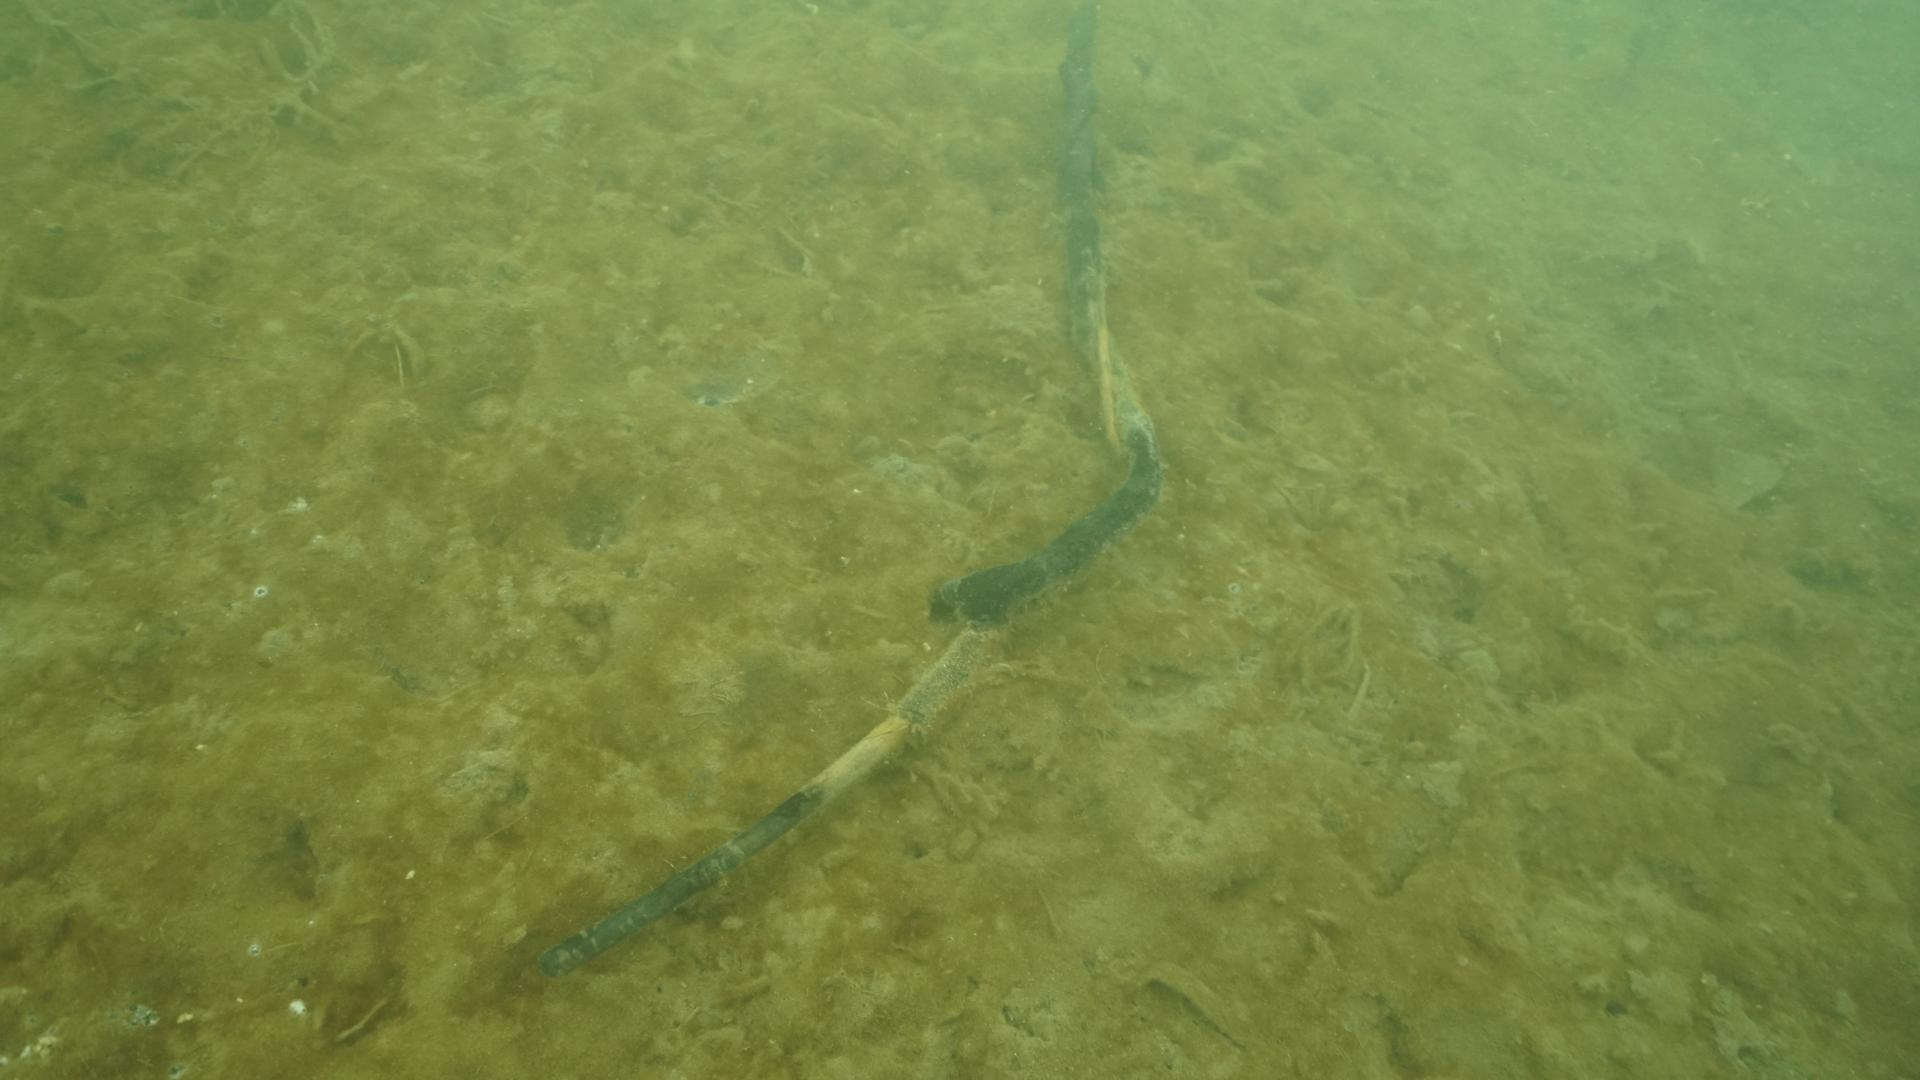wood: (537, 0, 1164, 978)
